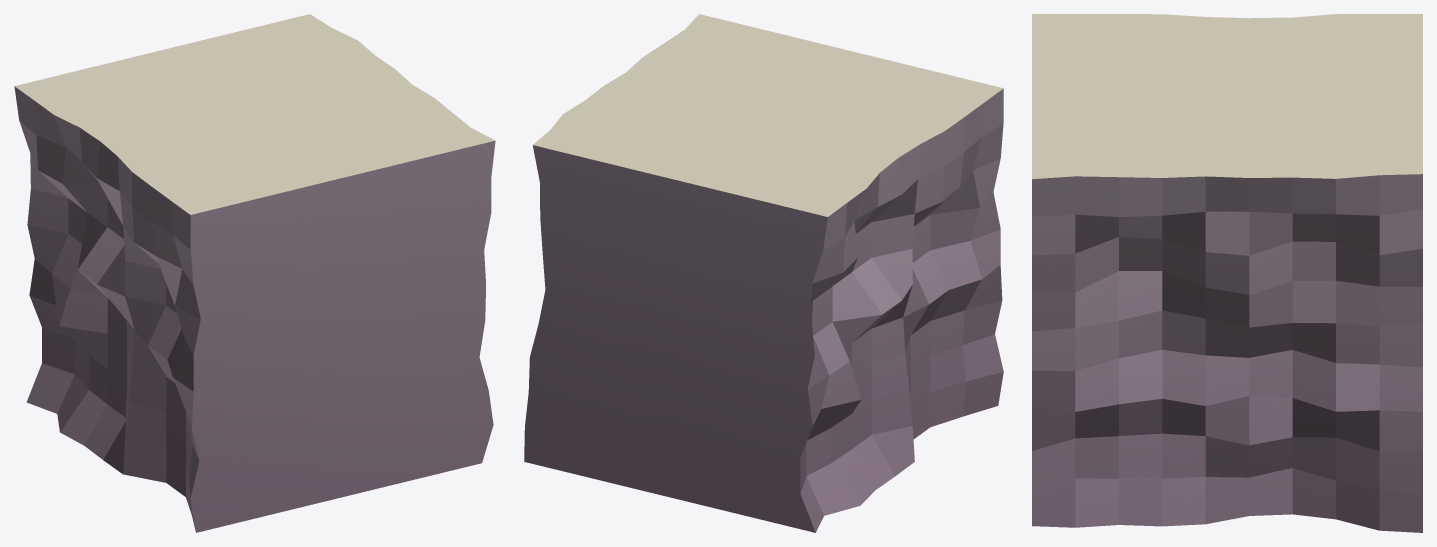
Rendered from bridgeTerrainTile.fbx.
The picture shows the model from 3 angles, left to right: view 1: azimuth 30°, elevation 25°; view 2: azimuth 150°, elevation 25°; view 3: azimuth 270°, elevation 25°; orthographic projection. The views are drawn at different scales.
Visible parts, largest first — view 1: sBase1.001; view 2: sBase1.001; view 3: sBase1.001.
Boxes of the visible parts, x1,y1,x2,y2 form: sBase1.001: (14, 14, 495, 532); sBase1.001: (524, 14, 1003, 532); sBase1.001: (1032, 14, 1422, 532).
Size of the model in its own units: 200 by 200 by 200.
